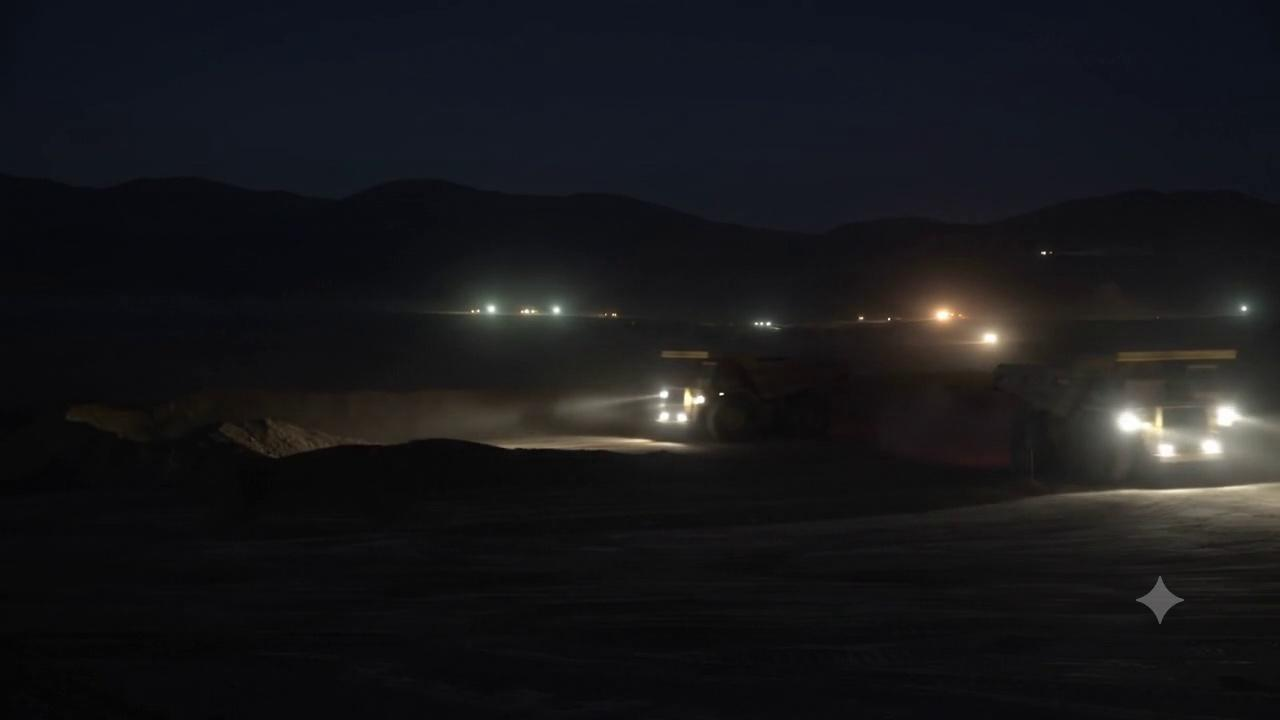CAEX: (994, 348, 1242, 481), (654, 350, 849, 441)
